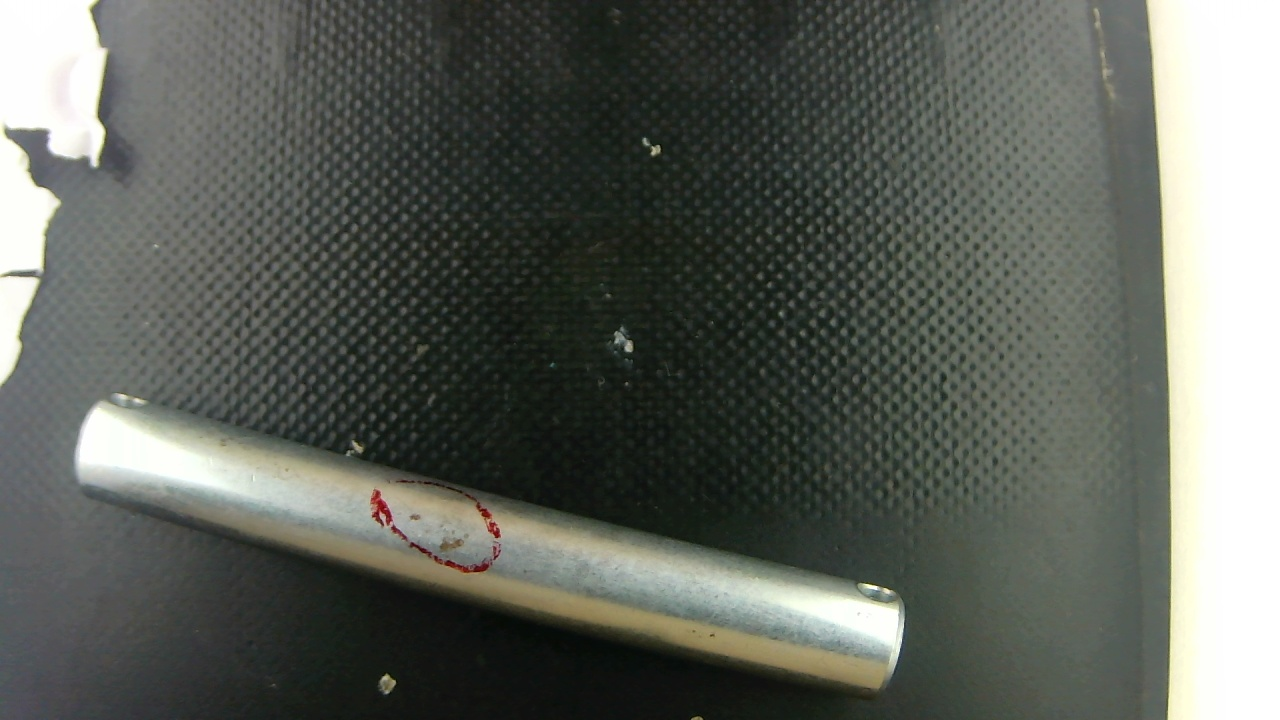rust_pin: (437, 517, 472, 557)
